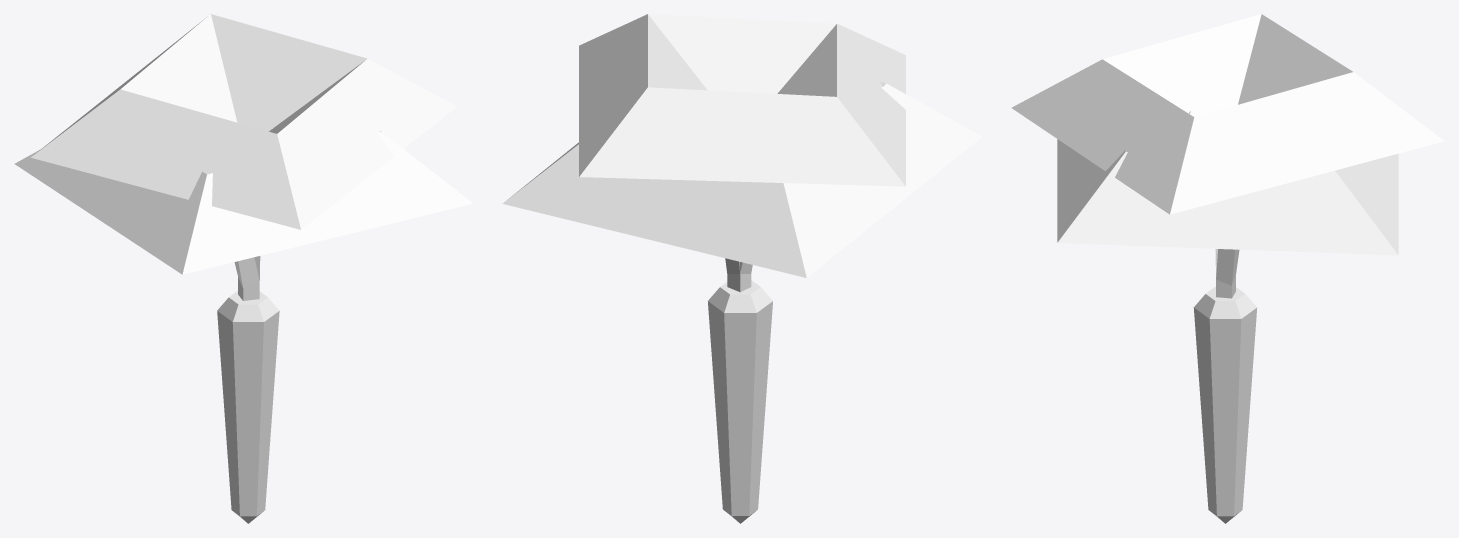
File: SM_Prop_Carrot_01_L.glb
The picture shows the model from 3 angles, left to right: view 1: azimuth 30°, elevation 25°; view 2: azimuth 150°, elevation 25°; view 3: azimuth 270°, elevation 25°; orthographic projection. The views are drawn at different scales.
Parts seen in each view (by area): view 1: SM_Prop_Carrot_01_L; view 2: SM_Prop_Carrot_01_L; view 3: SM_Prop_Carrot_01_L.
Boxes of the visible parts, x1,y1,x2,y2 form: SM_Prop_Carrot_01_L: [14, 14, 473, 523]; SM_Prop_Carrot_01_L: [502, 14, 982, 523]; SM_Prop_Carrot_01_L: [1011, 14, 1444, 523].
Size of the model in its own units: 0.6348 by 0.7507 by 0.6348.
2 materials, 1 textured.
